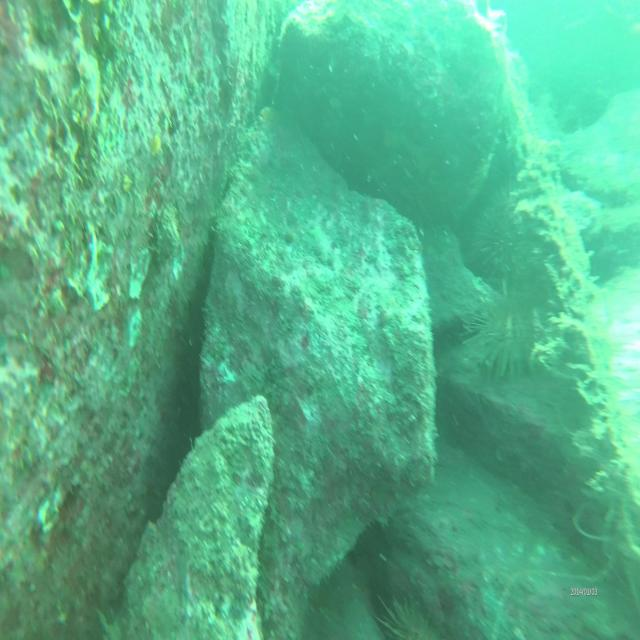echinus: (461, 280, 538, 382), (474, 187, 534, 290)
